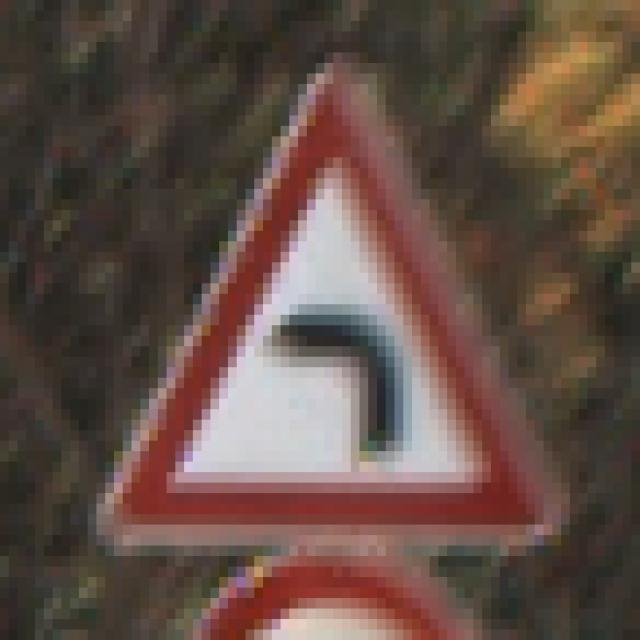left hand curve: (76, 39, 586, 577)
